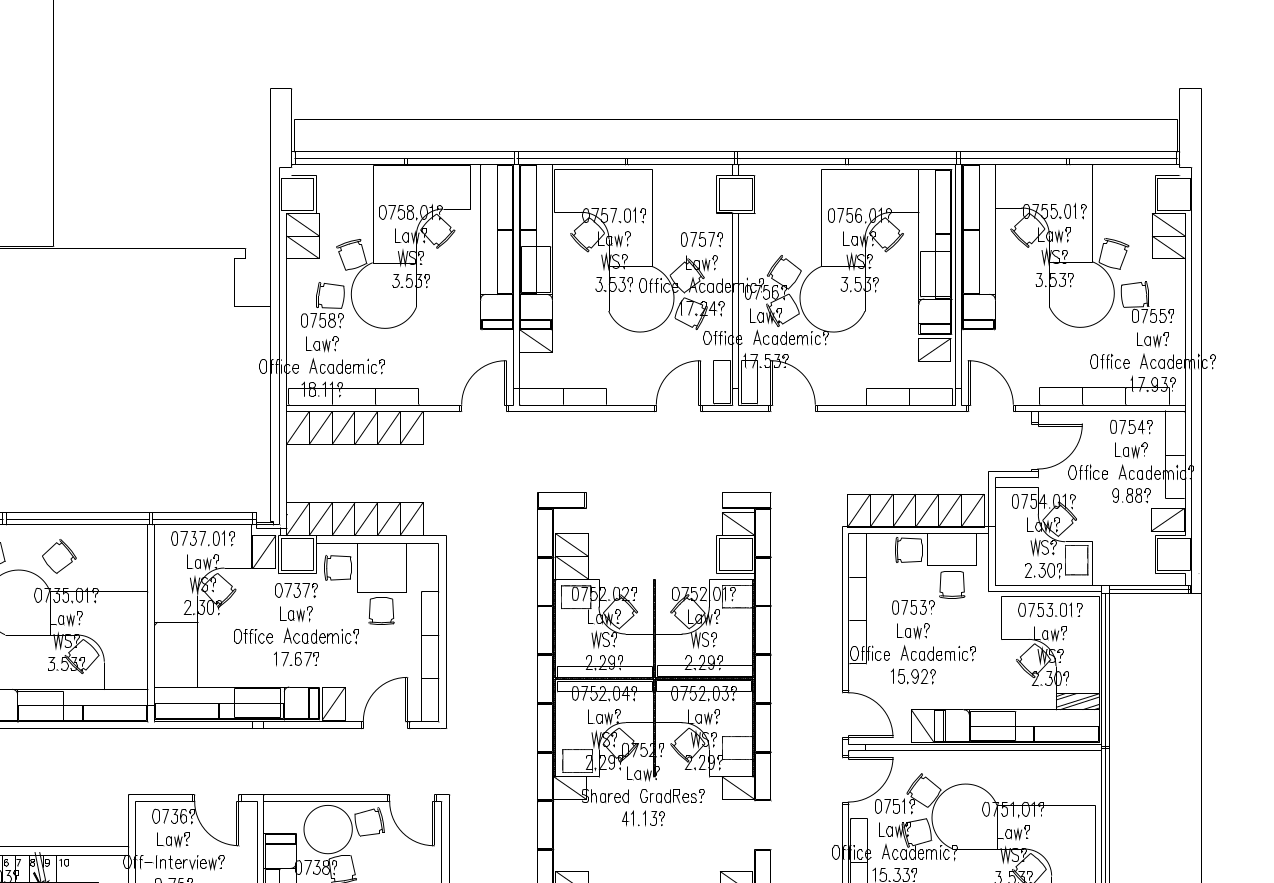door: (1030, 417, 1089, 475), (839, 685, 898, 743), (839, 753, 898, 811), (192, 790, 246, 850), (360, 669, 414, 729), (384, 792, 438, 852), (455, 353, 509, 413), (651, 353, 705, 413), (765, 354, 819, 414), (965, 357, 1019, 417)
